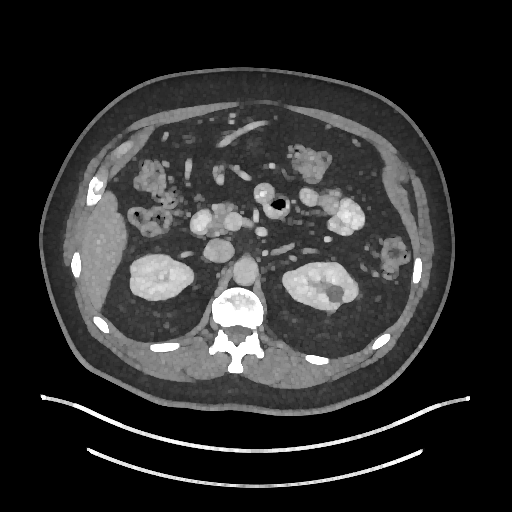Lesion: (323, 278, 348, 310)
